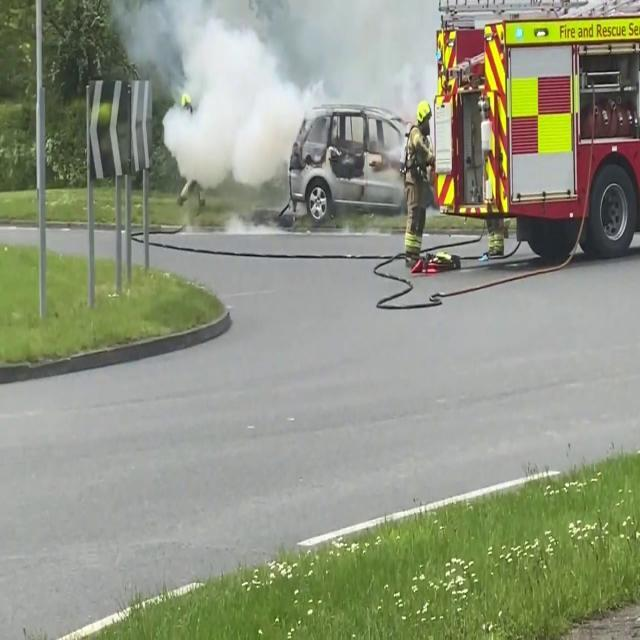Smoke: (130, 0, 418, 186)
